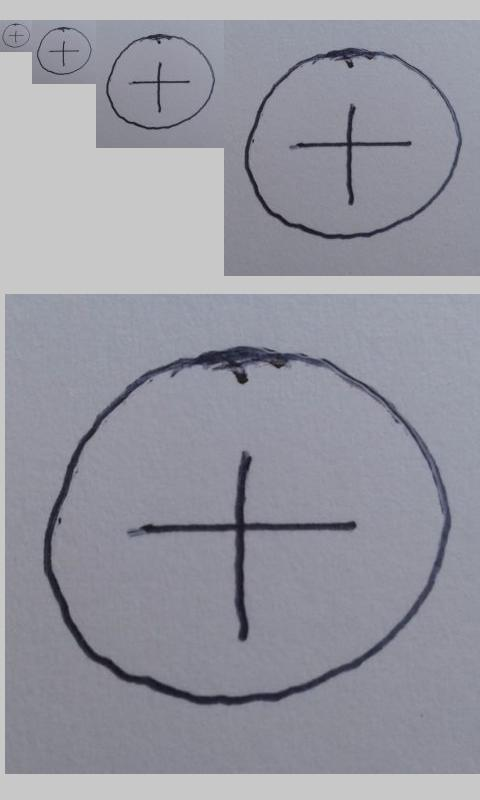button: (39, 342, 454, 711), (244, 47, 464, 241), (105, 33, 216, 130), (36, 27, 92, 75), (2, 23, 31, 48)
